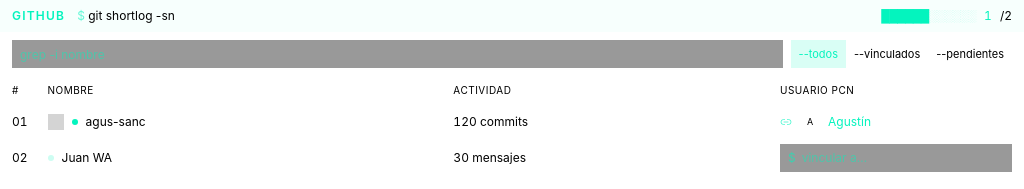
Test: IdentityLinksTable › filters by status and by name
The width and height of the screenshot is (1024, 189).
Expected: the column heading "nombre" is shown, [40,76,445,104]
Click the button "--vinculados" at (887, 54), box [846,40,928,68]
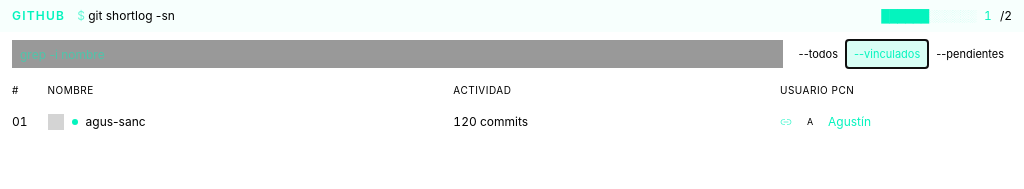
Click the button "--pendientes" at (970, 54), box [928,40,1012,68]
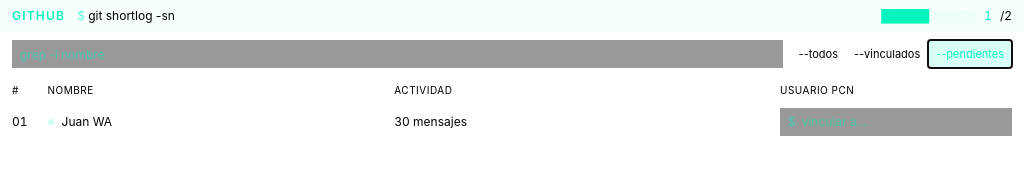
Click the button "--todos" at (818, 54), box [791,40,846,68]
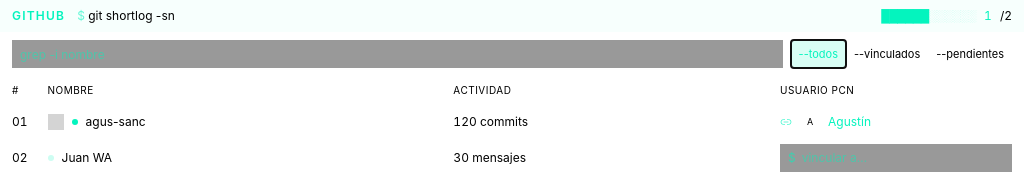
Type "agustín" into the field named "Filtrar github" at (397, 54), box [12,40,783,68]
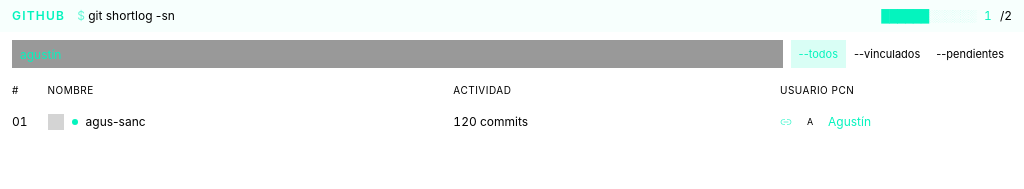
Type "zz" into the field named "Filtrar github" at (397, 54), box [12,40,783,68]
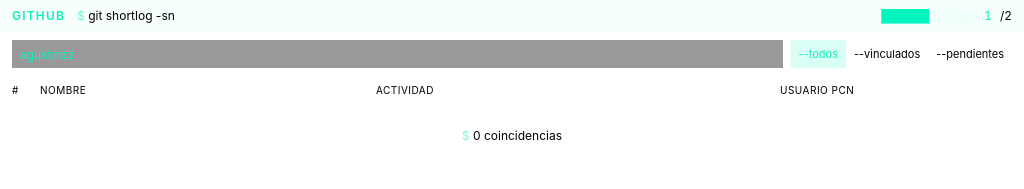
Now the text "0 coincidencias" is shown, box [473,128,562,143]
